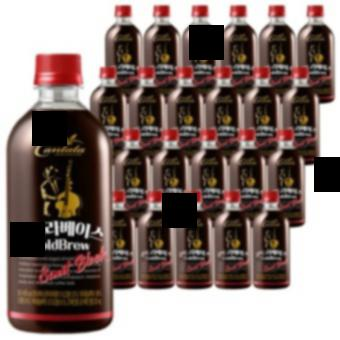contrabass_sweetblack: (5, 54, 120, 337), (248, 188, 293, 290), (213, 194, 255, 289), (139, 192, 175, 291), (177, 195, 212, 289)
